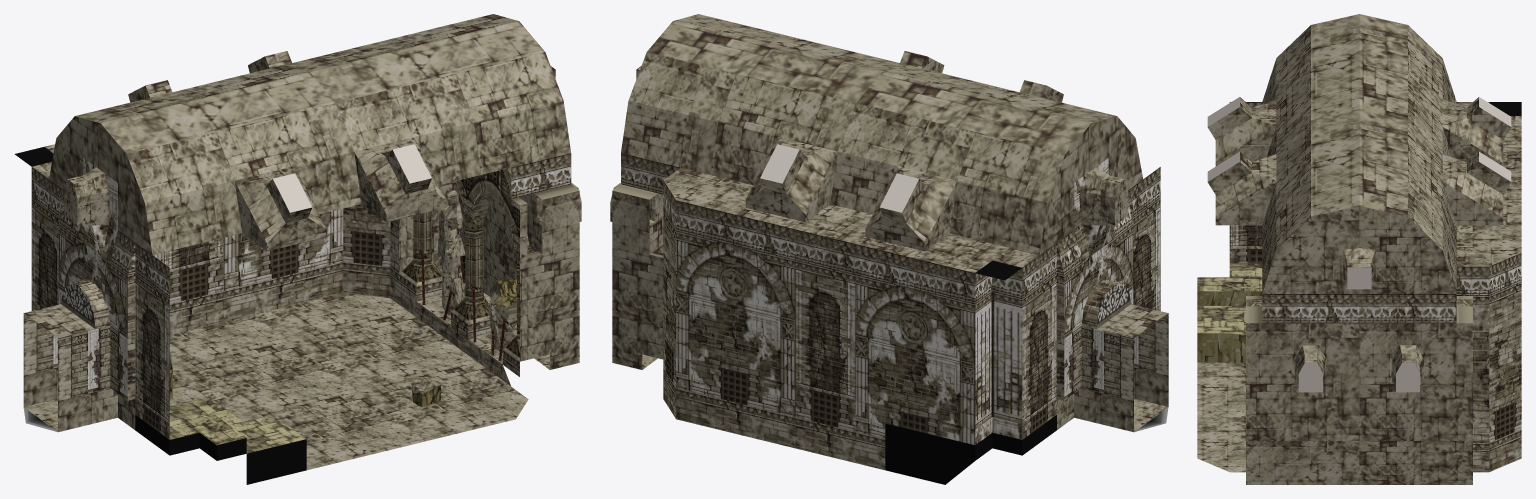
3 views of the same model, side by side, from view 1: azimuth 30°, elevation 25°; view 2: azimuth 150°, elevation 25°; view 3: azimuth 270°, elevation 25° (orthographic). The views are drawn at different scales.
Parts seen in each view (by area): view 1: mesh_56, mesh_6, mesh_21, mesh_44, mesh_76, mesh_46, mesh_10, mesh_16, mesh_51, mesh_48, mesh_24, mesh_23 (+21 smaller); view 2: mesh_56, mesh_15, mesh_21, mesh_12, mesh_44, mesh_76, mesh_11, mesh_10, mesh_46, mesh_55, mesh_16, mesh_51 (+19 smaller); view 3: mesh_21, mesh_56, mesh_76, mesh_25, mesh_6, mesh_23, mesh_17, mesh_7, mesh_5, mesh_68, mesh_69, mesh_20 (+5 smaller).
Boxes of the visible parts, x1,y1,x2,y2 form: mesh_56: [32, 28, 511, 254]; mesh_6: [24, 293, 528, 470]; mesh_21: [399, 14, 579, 369]; mesh_44: [23, 116, 152, 432]; mesh_76: [128, 51, 446, 243]; mesh_46: [23, 288, 127, 400]; mesh_10: [169, 261, 343, 334]; mesh_16: [169, 230, 343, 303]; mesh_51: [31, 198, 169, 423]; mesh_48: [58, 158, 127, 337]; mesh_24: [402, 211, 537, 357]; mesh_23: [390, 219, 519, 385]; mesh_56: [663, 28, 1116, 272]; mesh_15: [676, 275, 975, 429]; mesh_21: [612, 14, 757, 369]; mesh_12: [676, 200, 975, 304]; mesh_44: [1039, 116, 1168, 432]; mesh_76: [746, 51, 1063, 243]; mesh_11: [676, 231, 795, 322]; mesh_10: [676, 388, 885, 469]; mesh_46: [1064, 288, 1168, 400]; mesh_55: [975, 292, 1022, 429]; mesh_16: [676, 356, 855, 431]; mesh_51: [1022, 198, 1160, 423]; mesh_21: [1246, 178, 1472, 484]; mesh_56: [1215, 14, 1521, 266]; mesh_76: [1207, 97, 1511, 217]; mesh_25: [1262, 266, 1489, 323]; mesh_6: [1197, 362, 1245, 472]; mesh_23: [1473, 296, 1489, 472]; mesh_17: [1489, 282, 1521, 471]; mesh_7: [1197, 263, 1262, 334]; mesh_5: [1197, 291, 1262, 362]; mesh_68: [1294, 248, 1424, 384]; mesh_69: [1298, 267, 1420, 392]; mesh_20: [1489, 341, 1521, 413].
Size of the model in its own units: 224 by 128 by 128.
17 materials, 17 textured.
